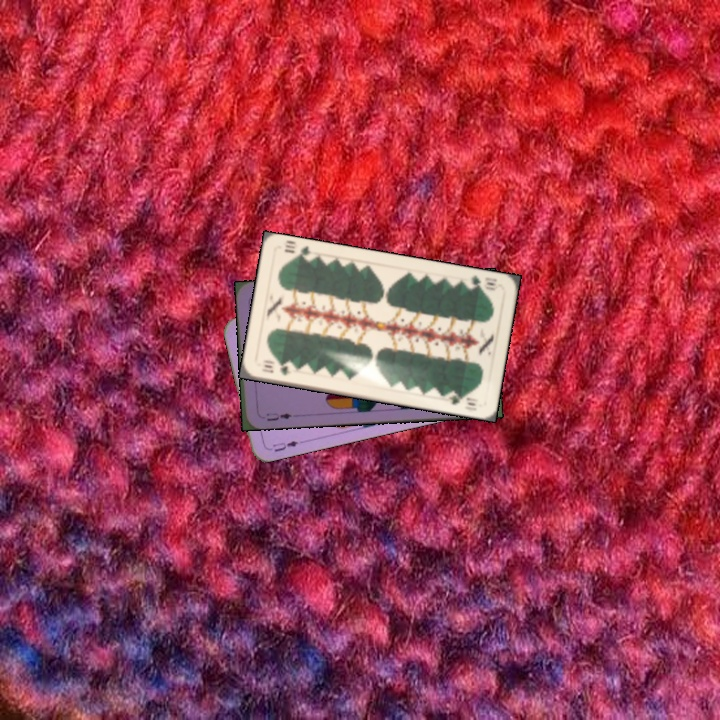EU: (269, 437, 305, 455), (257, 409, 294, 424)
G10: (461, 271, 503, 293), (257, 360, 293, 378)
